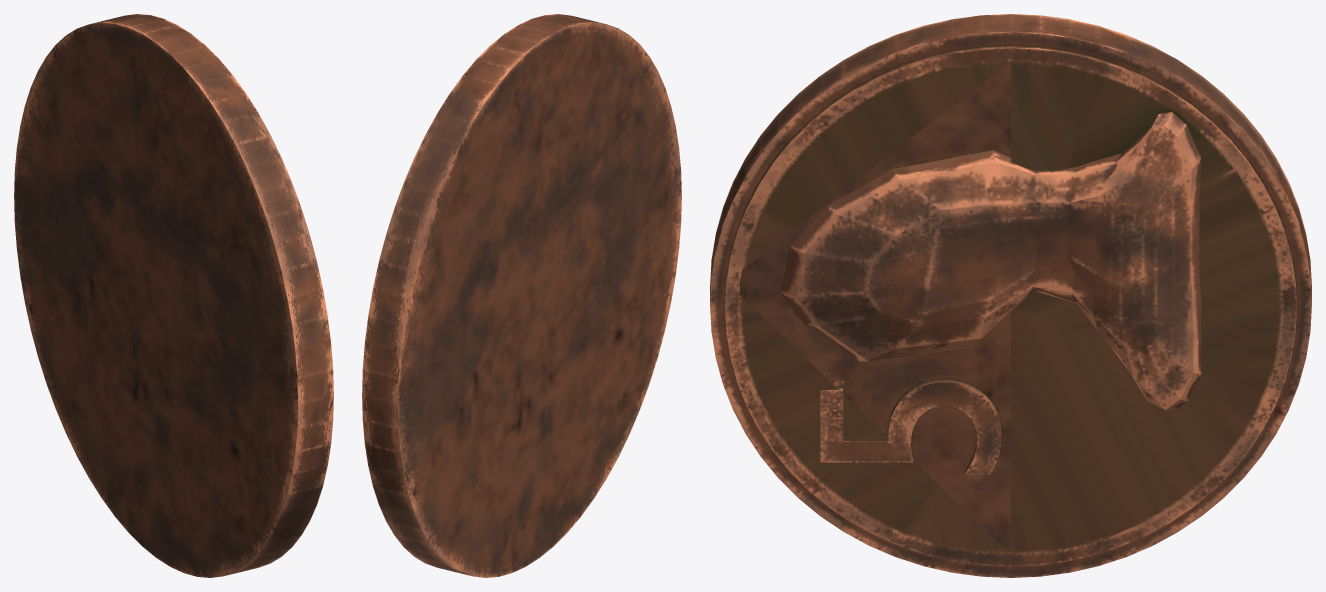
File: coin.gltf
3 views of the same model, side by side, from view 1: azimuth 30°, elevation 25°; view 2: azimuth 150°, elevation 25°; view 3: azimuth 270°, elevation 25° (orthographic). The views are drawn at different scales.
Parts seen in each view (by area): view 1: Cylinder; view 2: Cylinder; view 3: Cylinder.001, Plane, Cylinder, Text.
Boxes of the visible parts, <box> form: Cylinder: <box>14,14,333,577</box>; Cylinder: <box>362,14,681,577</box>; Cylinder.001: <box>725,46,1296,566</box>; Plane: <box>781,112,1201,412</box>; Cylinder: <box>710,14,1311,577</box>; Text: <box>820,379,1001,474</box>.
Size of the model in its own units: 2.75 by 20 by 20.
Materials: 1 (1 with a texture image).
